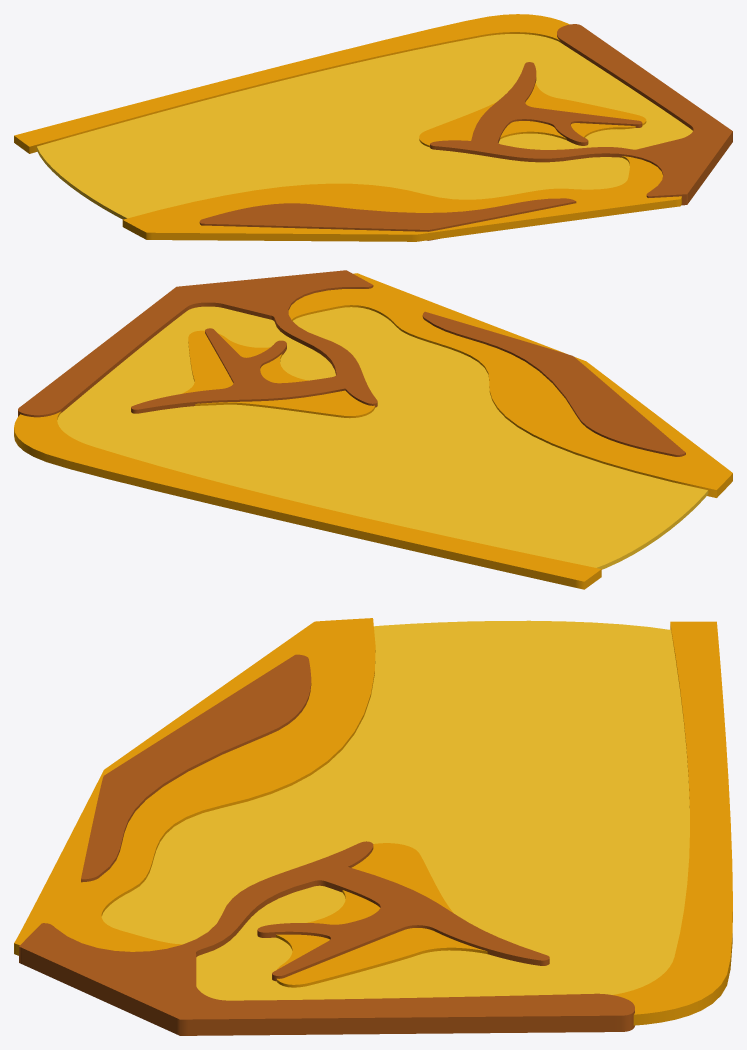
Rendered from emoji_u1f91c.glb.
3 renders of one model, top to bottom at view 1: azimuth 30°, elevation 25°; view 2: azimuth 150°, elevation 25°; view 3: azimuth 270°, elevation 25°, orthographic. The views are drawn at different scales.
Visible parts, largest first — view 1: emoji_u1f91c; view 2: emoji_u1f91c; view 3: emoji_u1f91c.
Boxes of the visible parts, x1,y1,x2,y2 form: emoji_u1f91c: (14,14,732,241); emoji_u1f91c: (14,270,732,589); emoji_u1f91c: (14,618,732,1035).
Size of the model in its own units: 0.0318 by 0.0006 by 0.0239.
